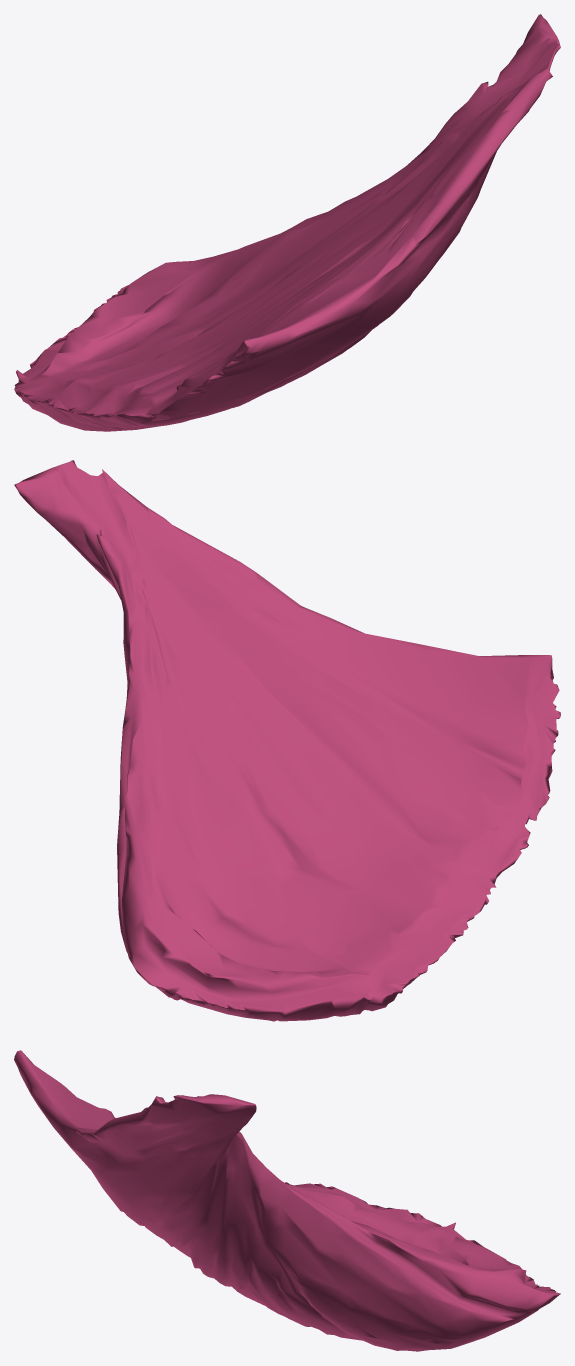
The picture shows the model from 3 angles, top to bottom: view 1: azimuth 30°, elevation 25°; view 2: azimuth 150°, elevation 25°; view 3: azimuth 270°, elevation 25°; orthographic projection. The views are drawn at different scales.
Parts seen in each view (by area): view 1: 左侧胸大肌胸肋部; view 2: 左侧胸大肌胸肋部; view 3: 左侧胸大肌胸肋部.
Boxes of the visible parts, x1,y1,x2,y2 form: 左侧胸大肌胸肋部: (14,14,560,431); 左侧胸大肌胸肋部: (14,460,560,1021); 左侧胸大肌胸肋部: (14,1050,560,1351).
Size of the model in its own units: 0.28 by 0.2096 by 0.2684.
